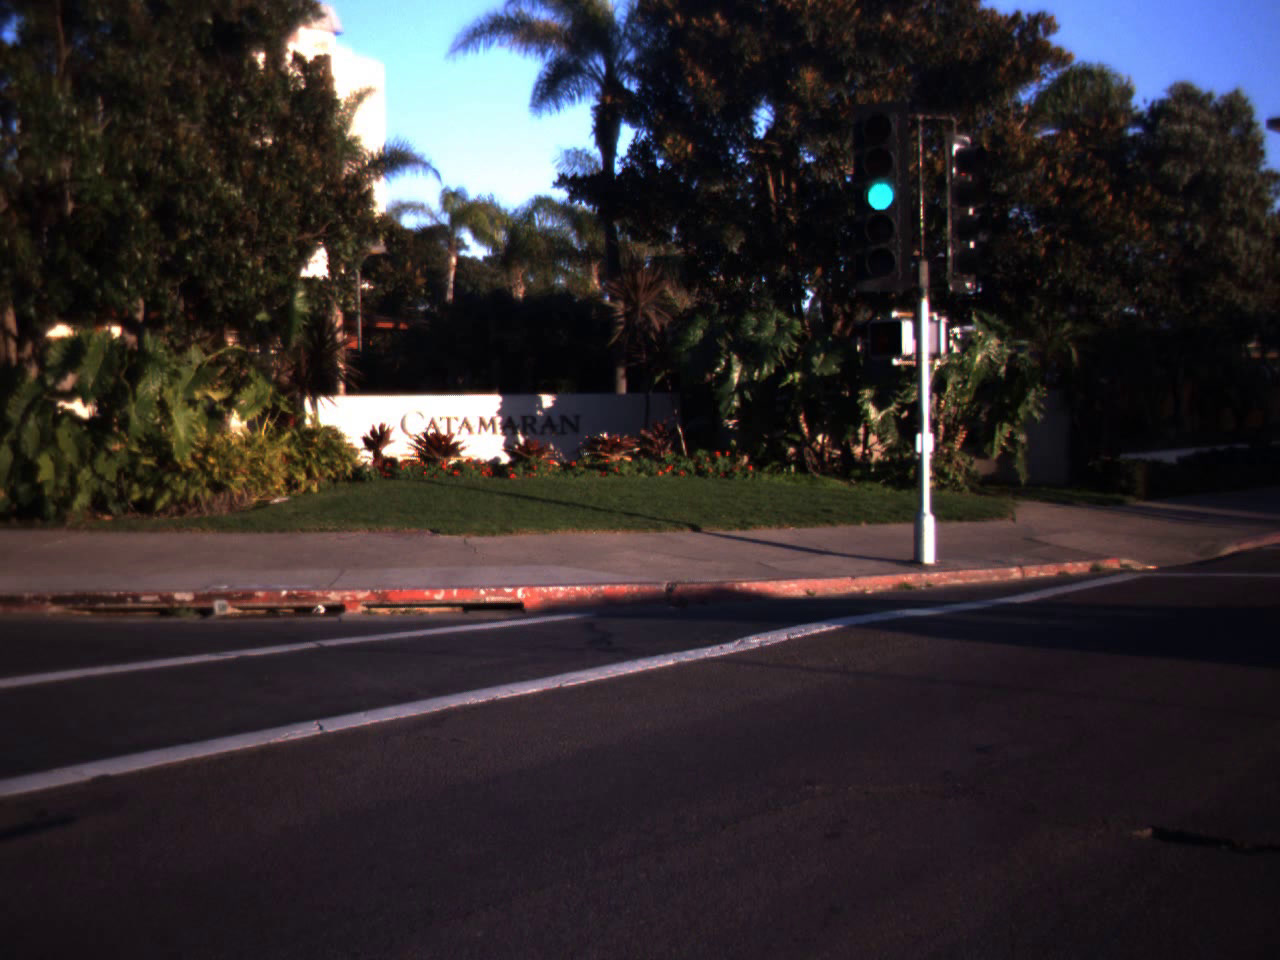go: (846, 96, 915, 221)
